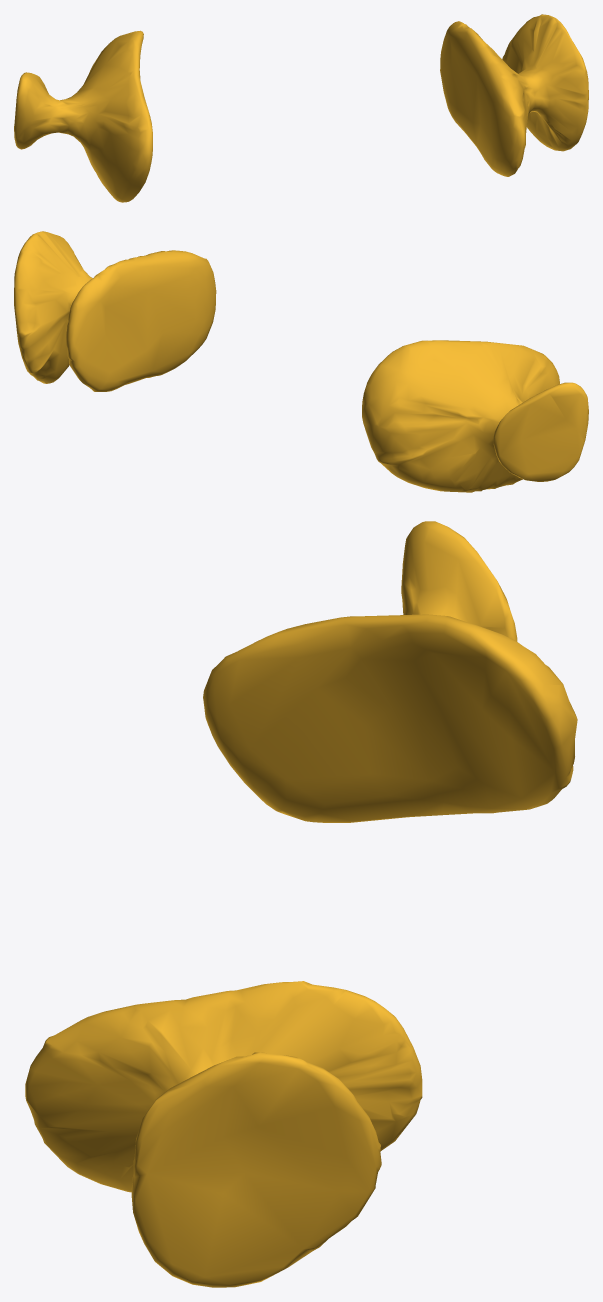
Rendered from nervoso-suspensory-ligament-of-eyeball-r.glb.
The picture shows the model from 3 angles, top to bottom: view 1: azimuth 30°, elevation 25°; view 2: azimuth 150°, elevation 25°; view 3: azimuth 270°, elevation 25°; orthographic projection. The views are drawn at different scales.
Visible parts, largest first — view 1: Suspensory ligament of eyeball.r; view 2: Suspensory ligament of eyeball.r; view 3: Suspensory ligament of eyeball.r.
Boxes of the visible parts, box(x1,y1,x2,y2) form: Suspensory ligament of eyeball.r: box(14, 14, 588, 202); Suspensory ligament of eyeball.r: box(14, 231, 588, 492); Suspensory ligament of eyeball.r: box(25, 521, 577, 1287).
Bounding box in the file's own units: 0.0387 × 0.0116 × 0.0184.
